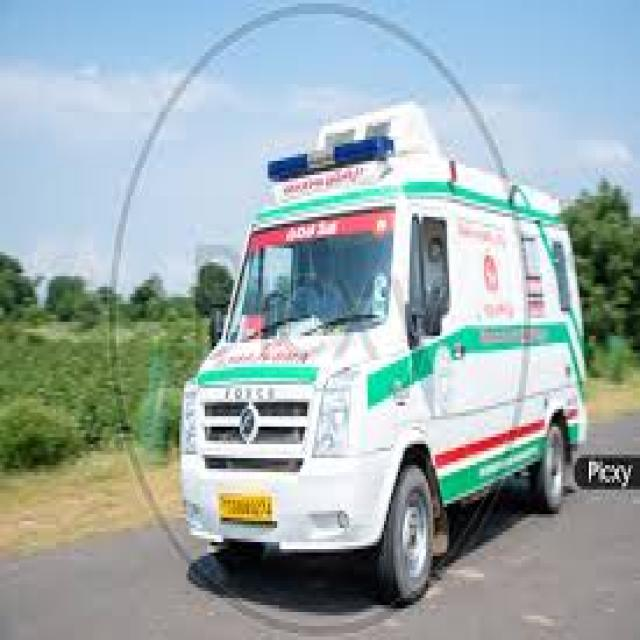Ambulance: (154, 94, 588, 626)
